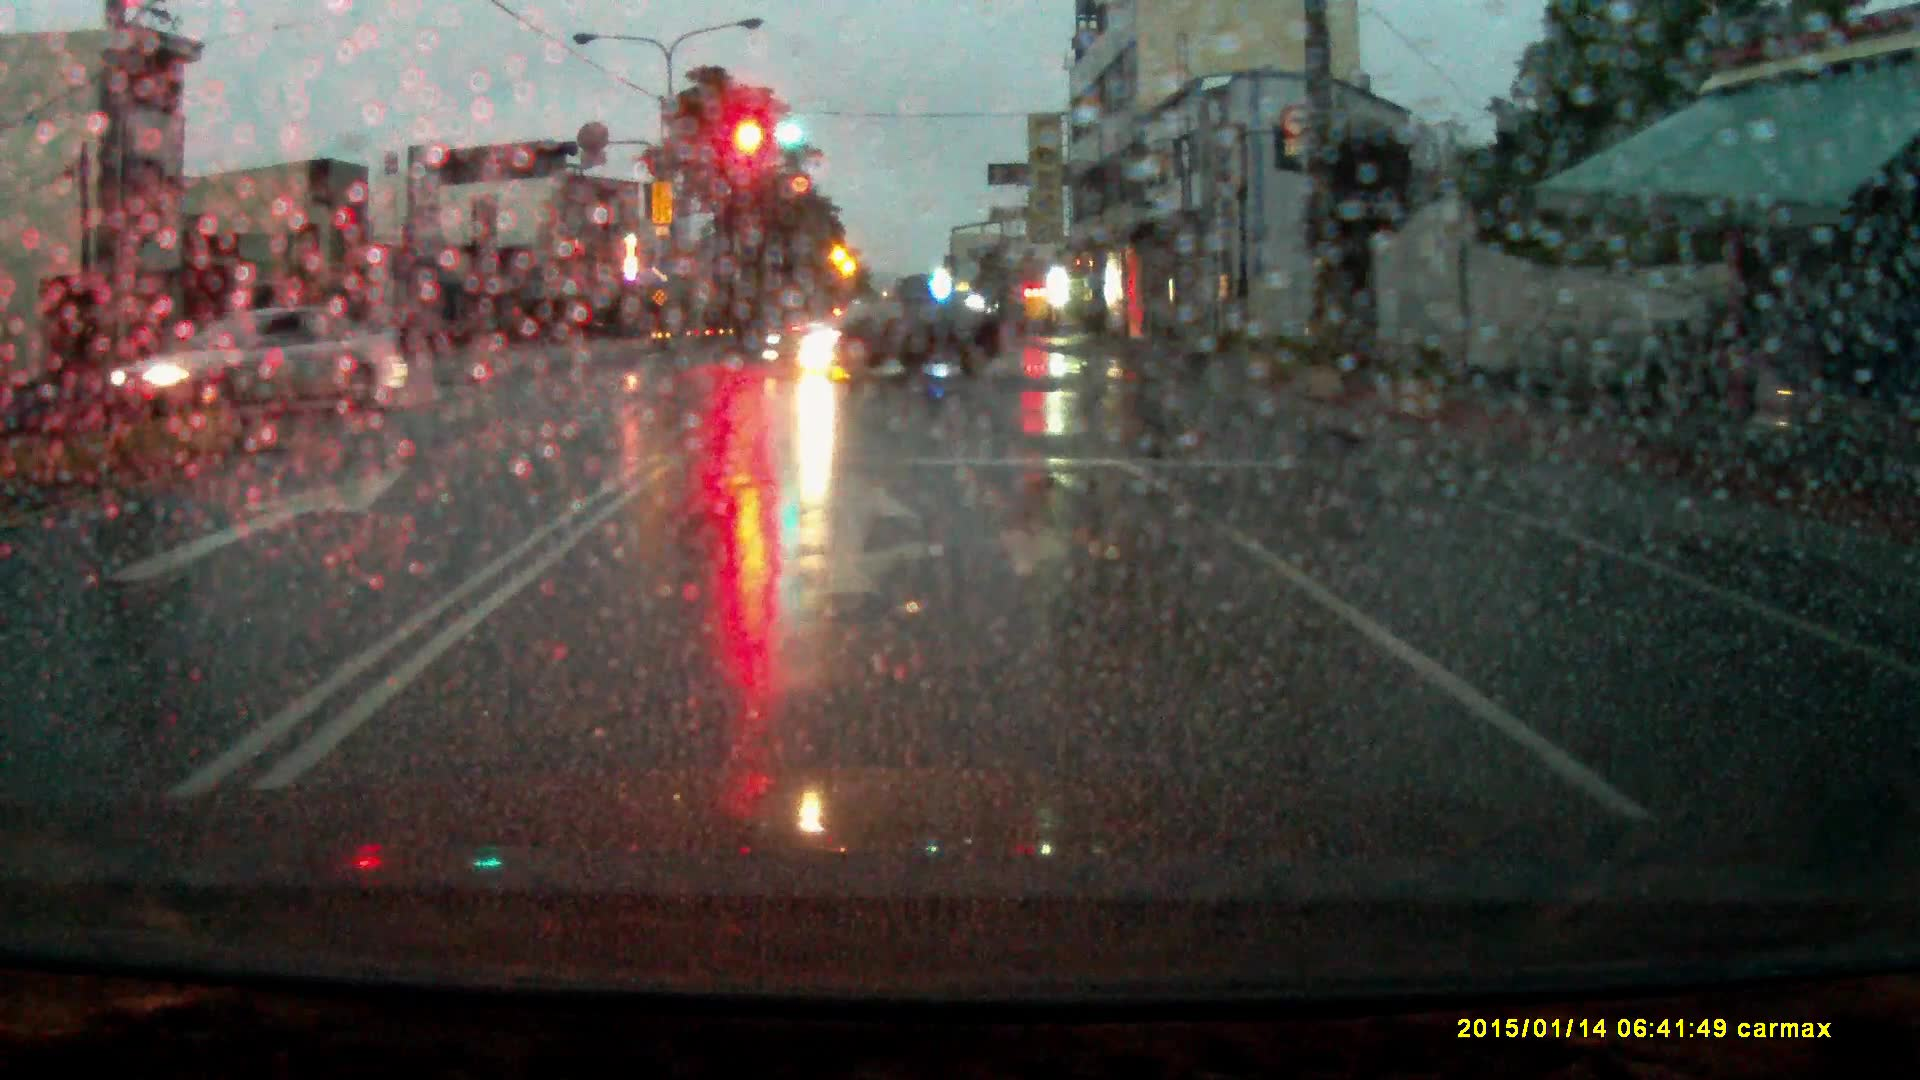vehicle: (80, 303, 405, 415), (765, 289, 1007, 382)
